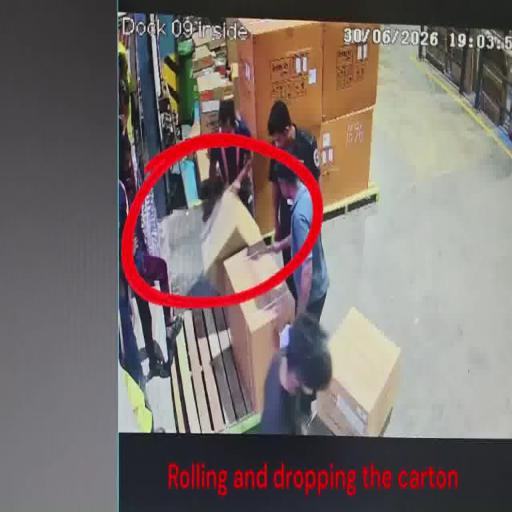carton: (252, 103, 376, 235), (156, 185, 264, 305), (222, 238, 296, 412), (222, 18, 322, 146), (314, 305, 402, 437), (319, 24, 381, 122)
pallet: (150, 308, 261, 434), (259, 185, 381, 247)
person: (245, 159, 331, 350), (119, 177, 182, 386), (265, 100, 321, 298), (259, 313, 335, 437), (202, 93, 255, 223)
